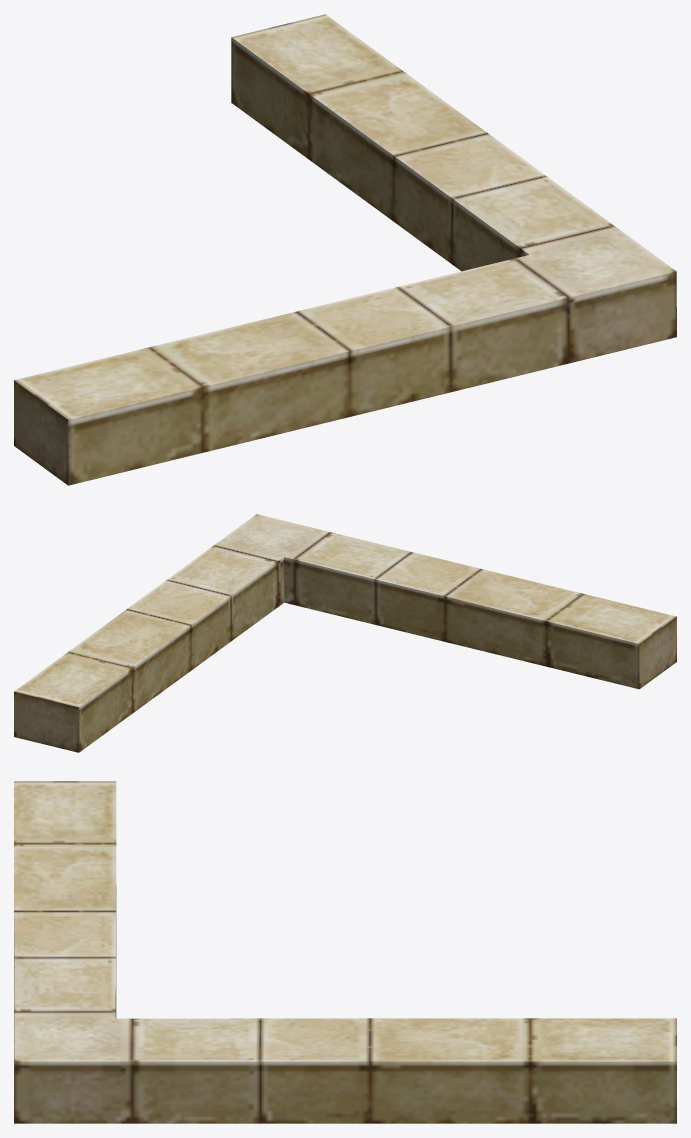
3 renders of one model, top to bottom at view 1: azimuth 30°, elevation 25°; view 2: azimuth 150°, elevation 25°; view 3: azimuth 270°, elevation 25°, orthographic. The views are drawn at different scales.
Parts seen in each view (by area): view 1: geom_node_0; view 2: geom_node_0; view 3: geom_node_0.
Part boxes in pixels (x1,y1,x2,y2): geom_node_0: (14,14,676,485); geom_node_0: (14,514,676,752); geom_node_0: (14,781,676,1123).
Size of the model in its own units: 1.94 by 0.2 by 1.94.
Materials: 1 (1 with a texture image).
